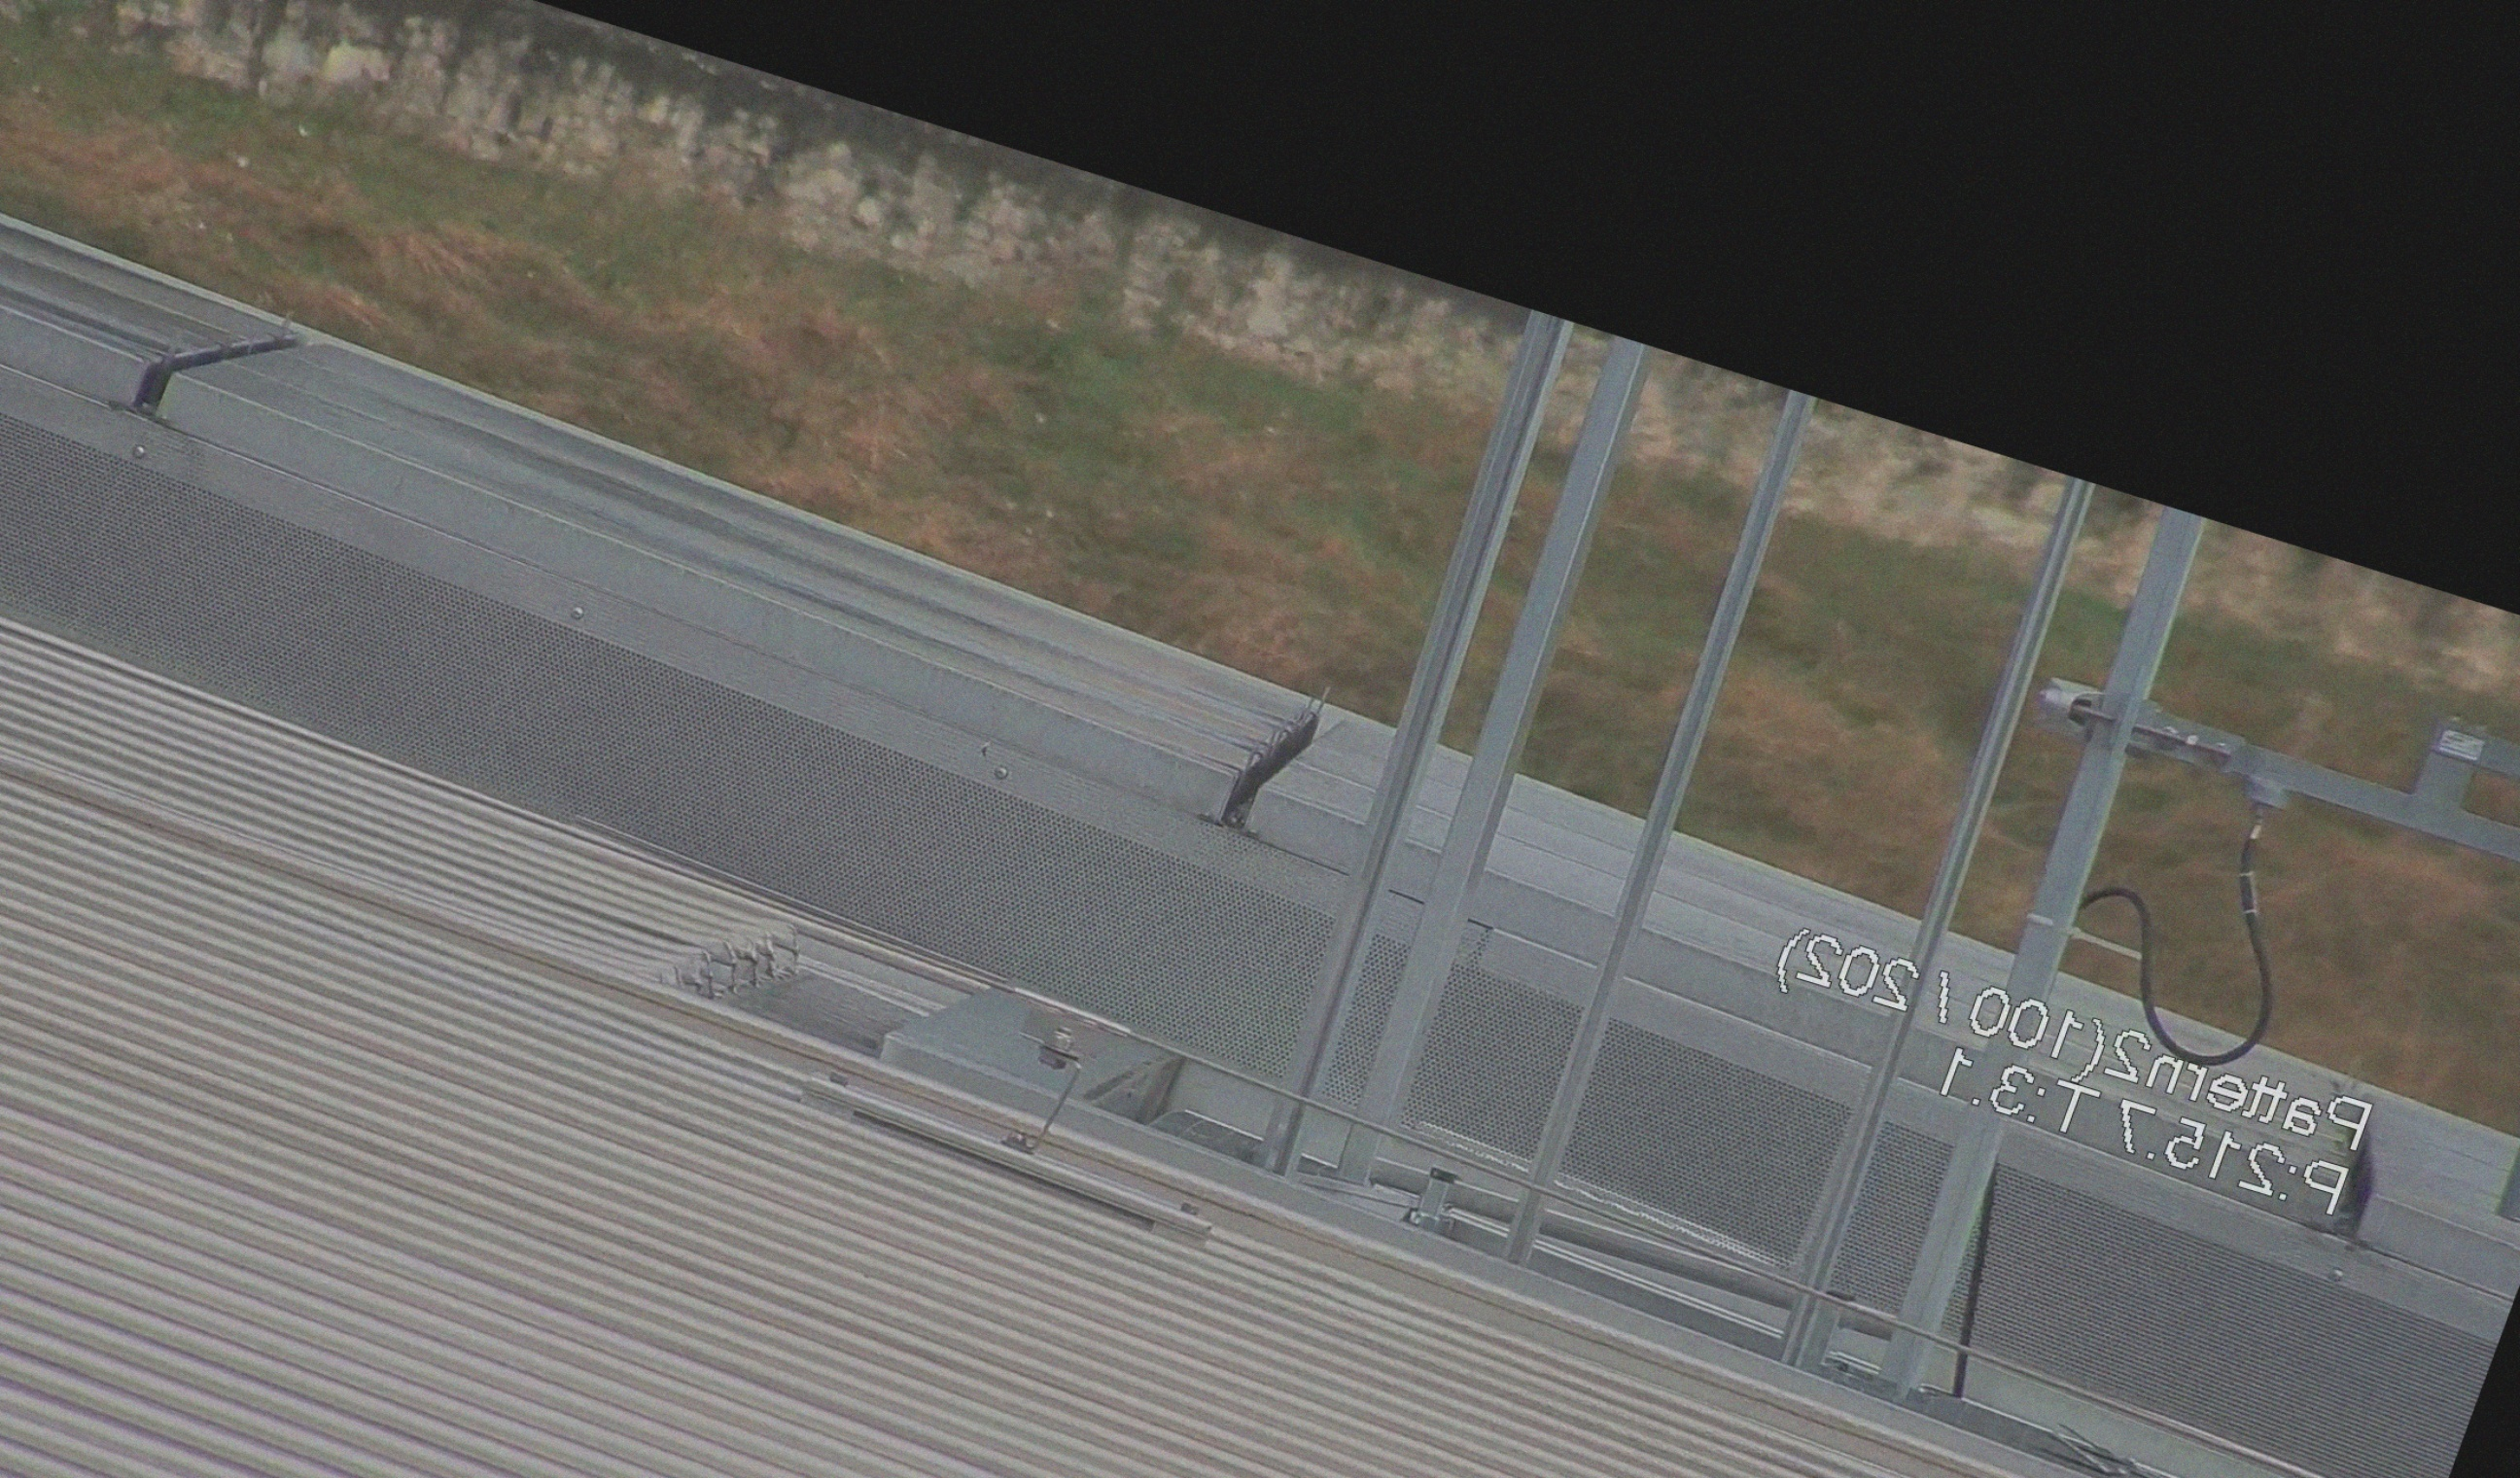Other: (1194, 667, 1359, 857)
